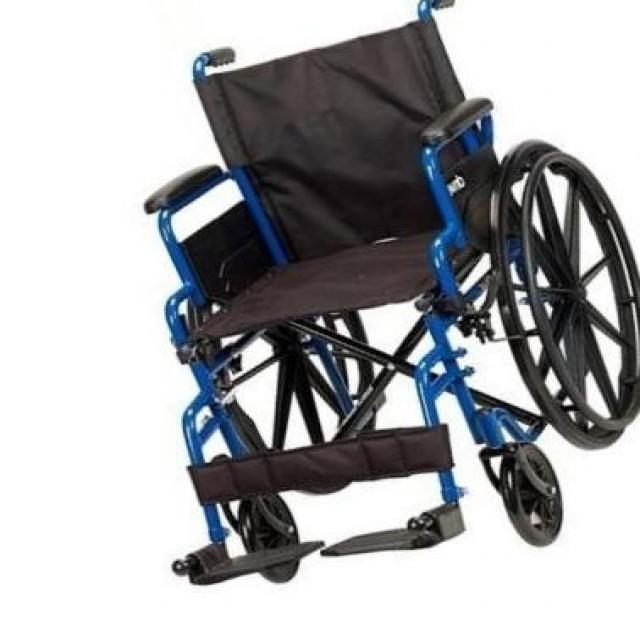wheelchair: (134, 0, 640, 593)
